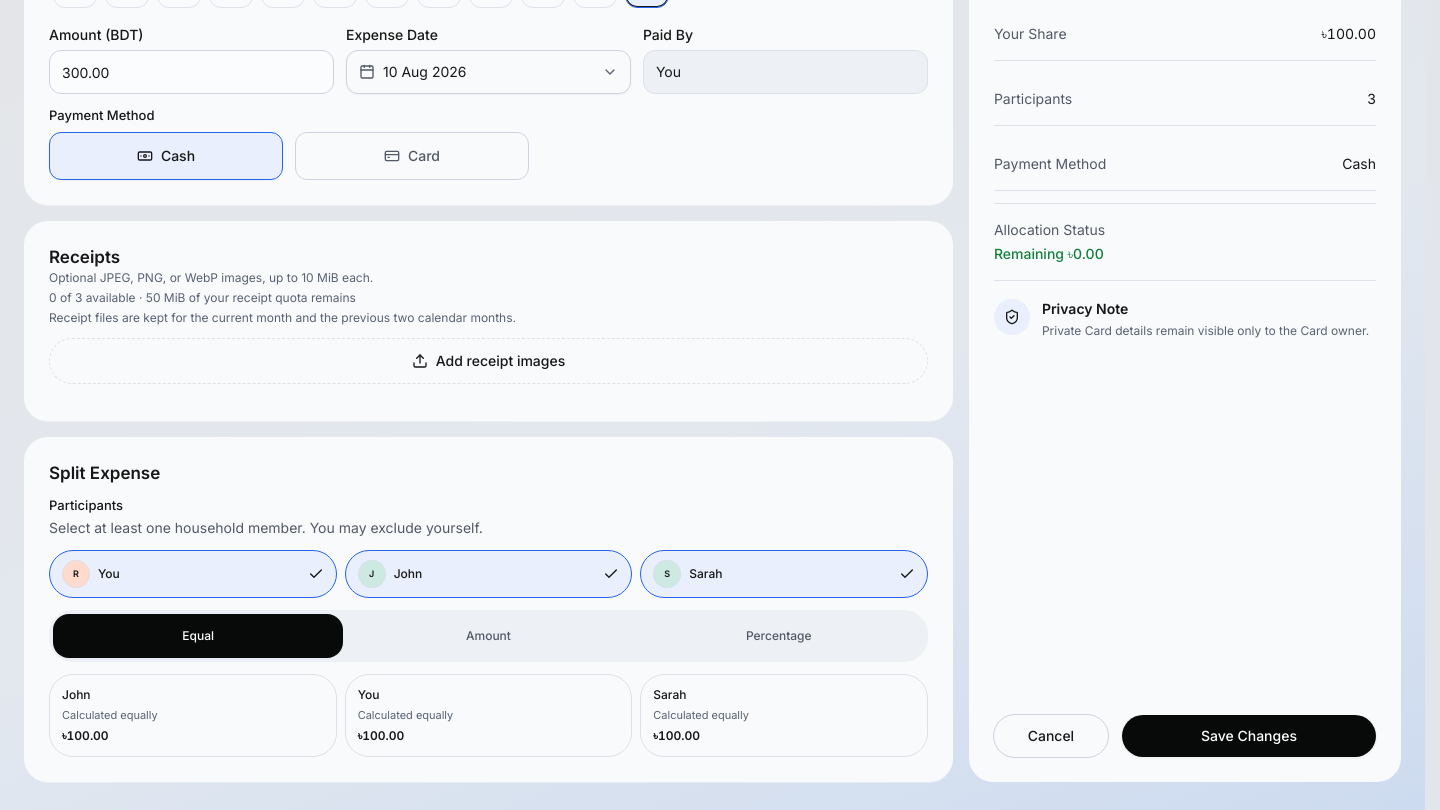
Test: receipt retention presentation › reloads an OCC conflict and shows the stable review message
(page scrolled)
Click the button "Save Changes" at (1249,736), box [1121,714,1377,758]
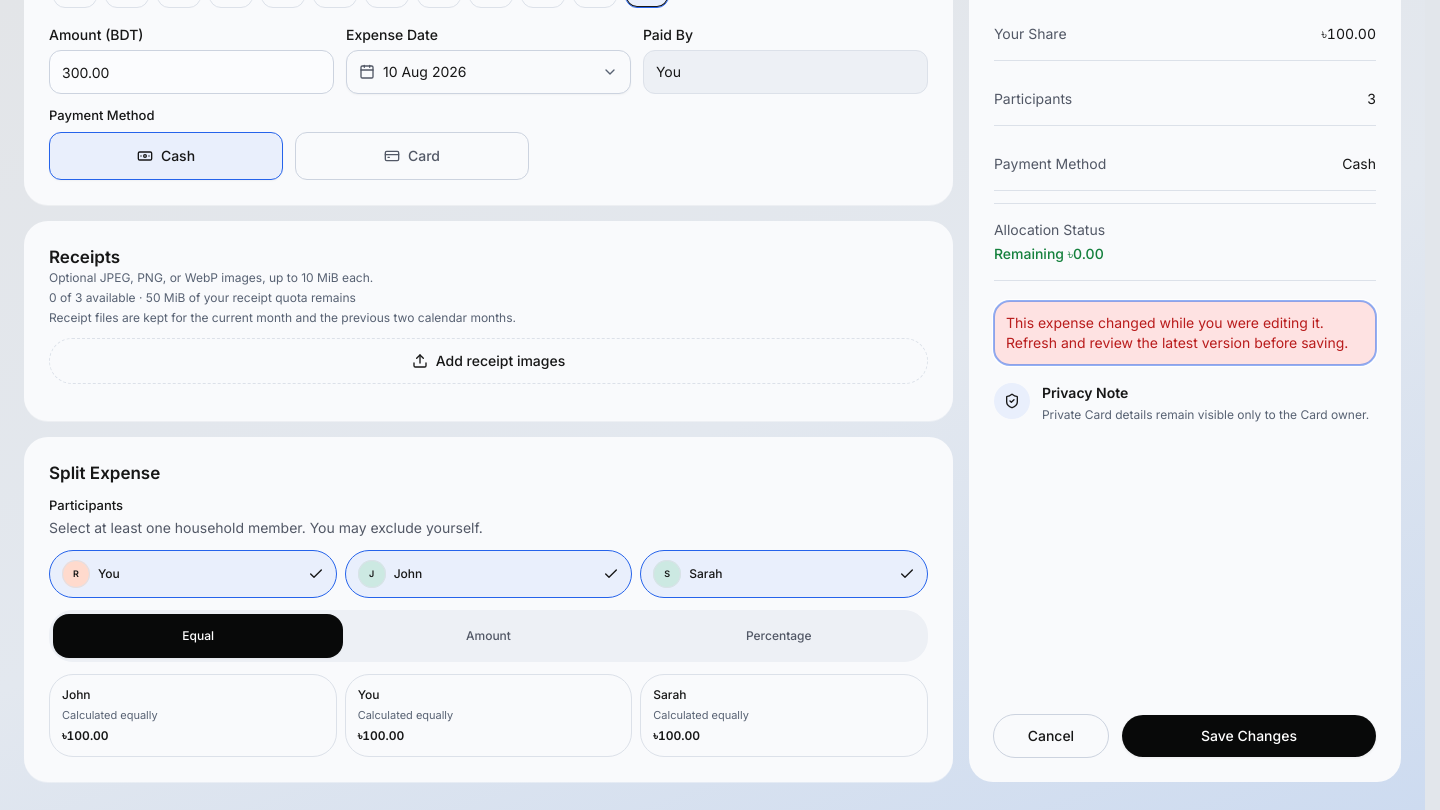
Expected: the text "This expense changed while you were editing it. Refresh and review the latest version before saving." is shown, [1006,314,1348,351]
